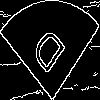D: (24, 24, 67, 84)
